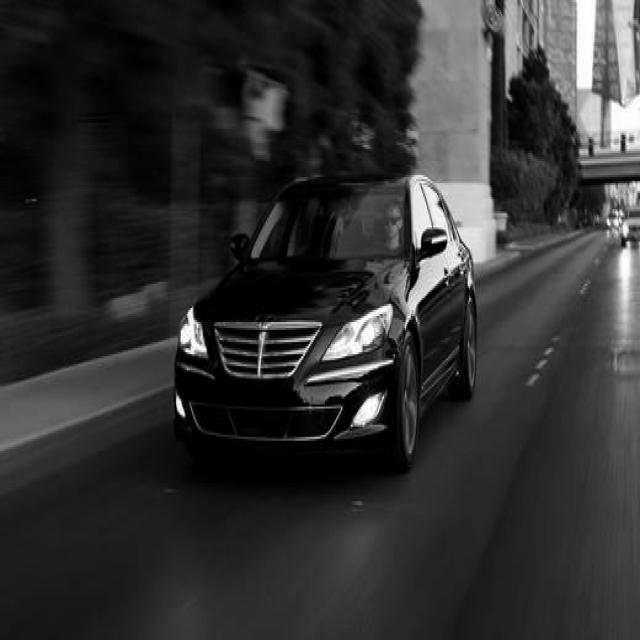car: (172, 171, 478, 473)
